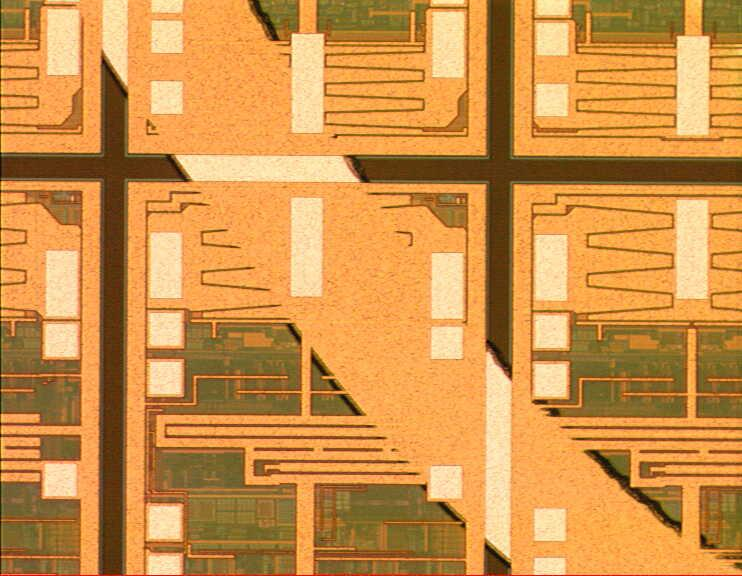COATING BAD: (57, 1, 742, 576)
